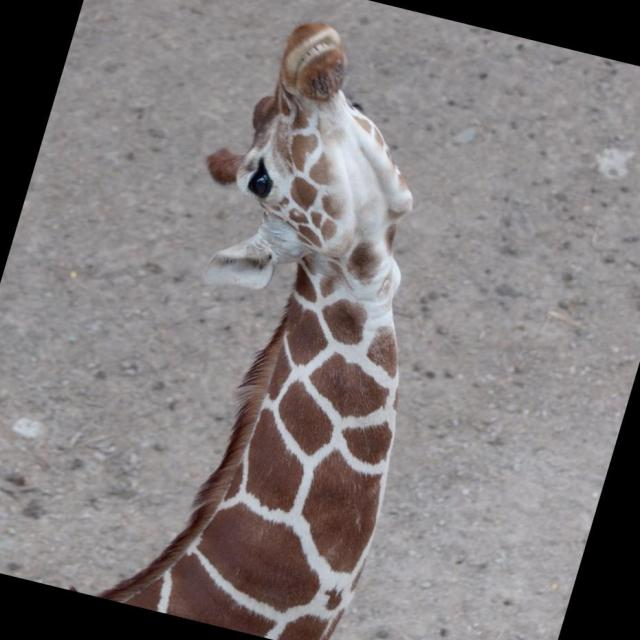Giraffe: (96, 9, 418, 640)
